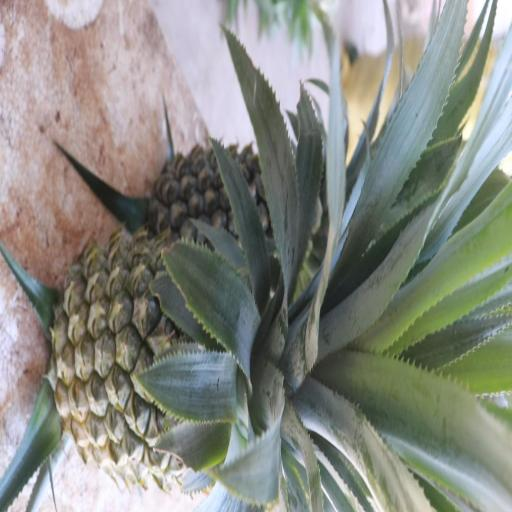------------------------------: (54, 224, 274, 480)
